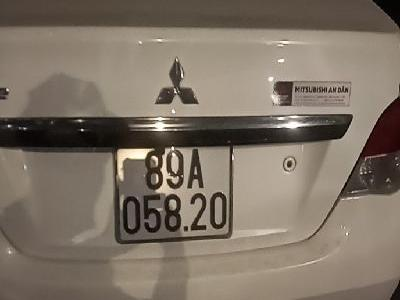number: (114, 143, 234, 242)
